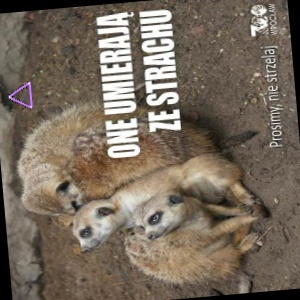triangle: (4, 78, 36, 113)
